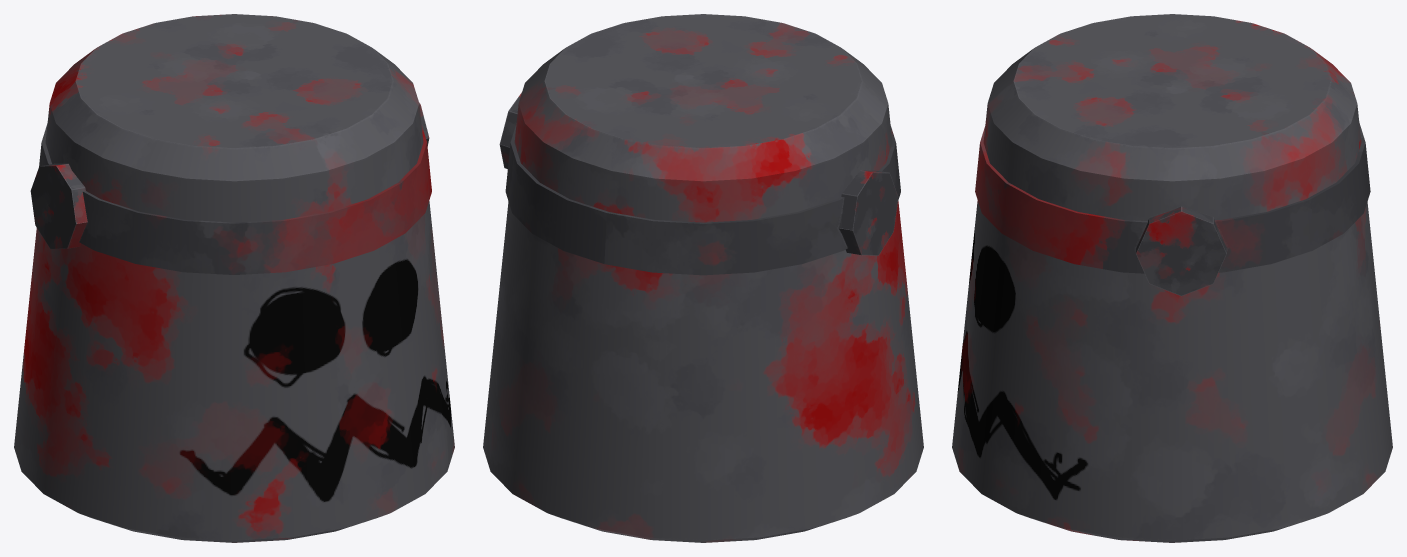
File: big_enemy_head.fbx
3 renders of one model, left to right at view 1: azimuth 30°, elevation 25°; view 2: azimuth 150°, elevation 25°; view 3: azimuth 270°, elevation 25°, orthographic.
Parts seen in each view (by area): view 1: bucket_helm; view 2: bucket_helm; view 3: bucket_helm.
Part boxes in pixels (x1,y1,x2,y2): bucket_helm: (14, 14, 454, 542); bucket_helm: (483, 14, 923, 542); bucket_helm: (952, 14, 1392, 542).
Size of the model in its own units: 125 by 124 by 125.
